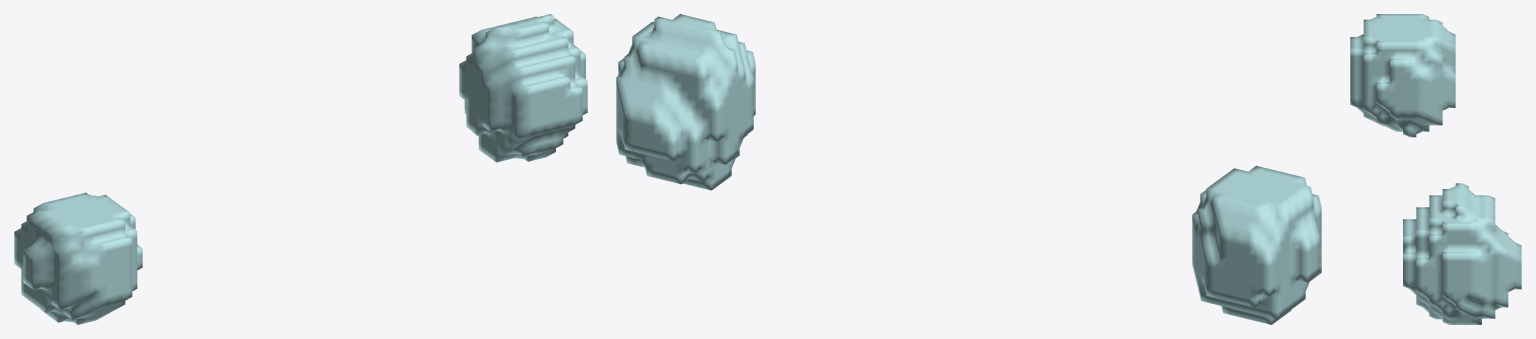
Rendered from region-3.glb.
3 renders of one model, left to right at view 1: azimuth 30°, elevation 25°; view 2: azimuth 150°, elevation 25°; view 3: azimuth 270°, elevation 25°, orthographic. The views are drawn at different scales.
Parts seen in each view (by area): view 1: digimouse-volume:3; view 2: digimouse-volume:3; view 3: digimouse-volume:3.
Boxes of the visible parts, left/top/right/bottom form: digimouse-volume:3: left=14, top=14, right=587, bottom=324; digimouse-volume:3: left=616, top=14, right=1321, bottom=324; digimouse-volume:3: left=1350, top=14, right=1521, bottom=324.
Bounding box in the file's own units: 0.0094 × 0.0024 × 0.0026.
